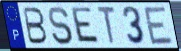3: (122, 5, 146, 47)
B: (22, 6, 49, 46)
E: (142, 5, 175, 46), (71, 6, 102, 46)
S: (47, 5, 74, 46)
T: (96, 6, 117, 47)
